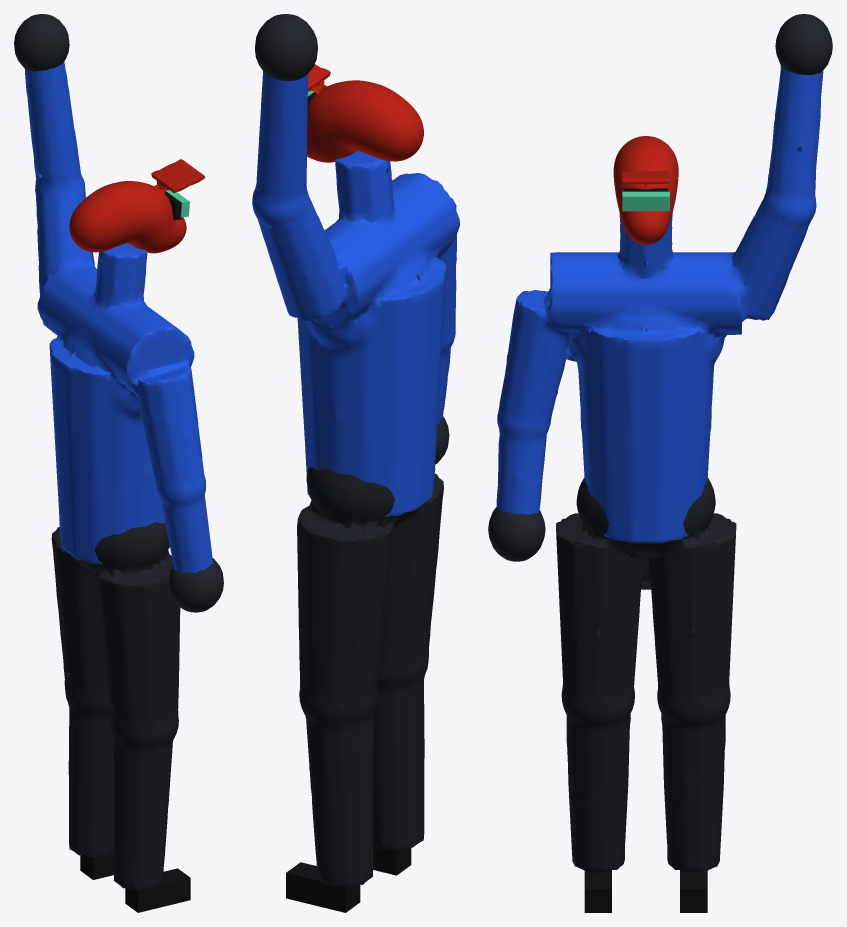
The model's file is rider_stand.obj.
3 renders of one model, left to right at view 1: azimuth 30°, elevation 25°; view 2: azimuth 150°, elevation 25°; view 3: azimuth 270°, elevation 25°, orthographic. The views are drawn at different scales.
Visible parts, largest first — view 1: RiderStanding; view 2: RiderStanding; view 3: RiderStanding.
Boxes of the visible parts, bbox=[...] form: RiderStanding: bbox=[14, 14, 223, 912]; RiderStanding: bbox=[252, 14, 459, 912]; RiderStanding: bbox=[488, 14, 832, 912].
Bounding box in the file's own units: 0.3467 × 2.01 × 0.72.
